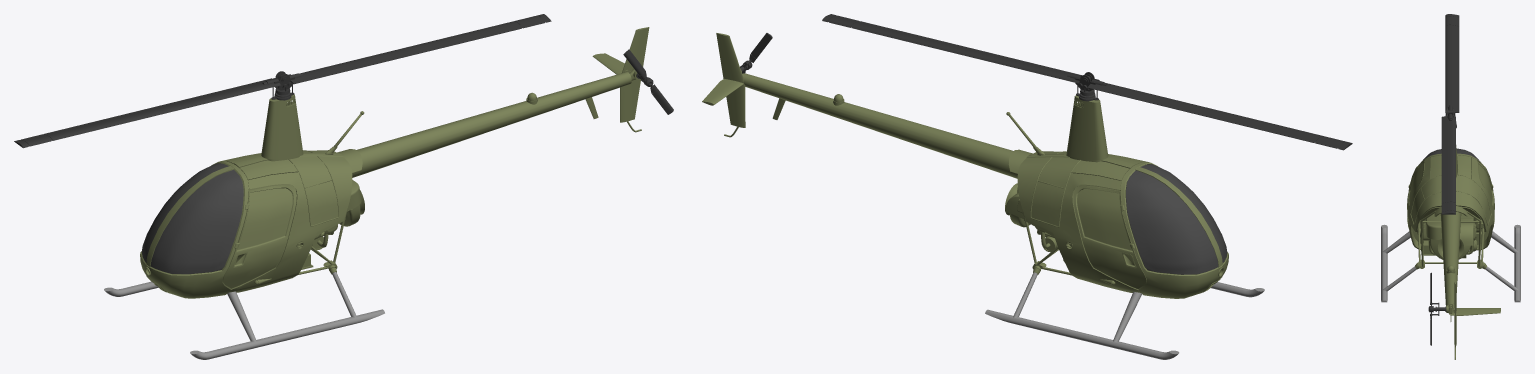
File: R22 Helicopter.fbx
3 views of the same model, side by side, from view 1: azimuth 30°, elevation 25°; view 2: azimuth 150°, elevation 25°; view 3: azimuth 270°, elevation 25° (orthographic). The views are drawn at different scales.
Parts seen in each view (by area): view 1: Fuselage, parabrisa, Primary_Rotor, trilho, Tail_Rotor; view 2: Fuselage, parabrisa, Primary_Rotor, trilho; view 3: Fuselage, Primary_Rotor, trilho, Tail_Rotor, parabrisa.
Boxes of the visible parts, x1,y1,x2,y2 form: Fuselage: (140,27,649,298); parabrisa: (141,163,243,274); Primary_Rotor: (14,14,551,148); trilho: (104,272,384,359); Tail_Rotor: (623,49,673,114); Fuselage: (702,33,1228,298); parabrisa: (1126,164,1227,274); Primary_Rotor: (822,14,1352,150); trilho: (985,272,1264,359); Fuselage: (1407,145,1500,359); Primary_Rotor: (1441,14,1459,214); trilho: (1381,224,1520,302); Tail_Rotor: (1428,272,1446,345); parabrisa: (1421,148,1480,161).
Size of the model in its own units: 519 by 175 by 126.
